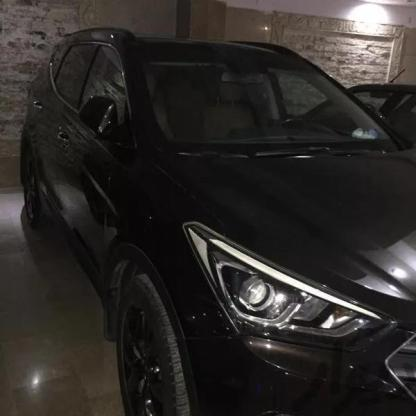Car: (0, 1, 416, 416), (319, 82, 416, 161)
